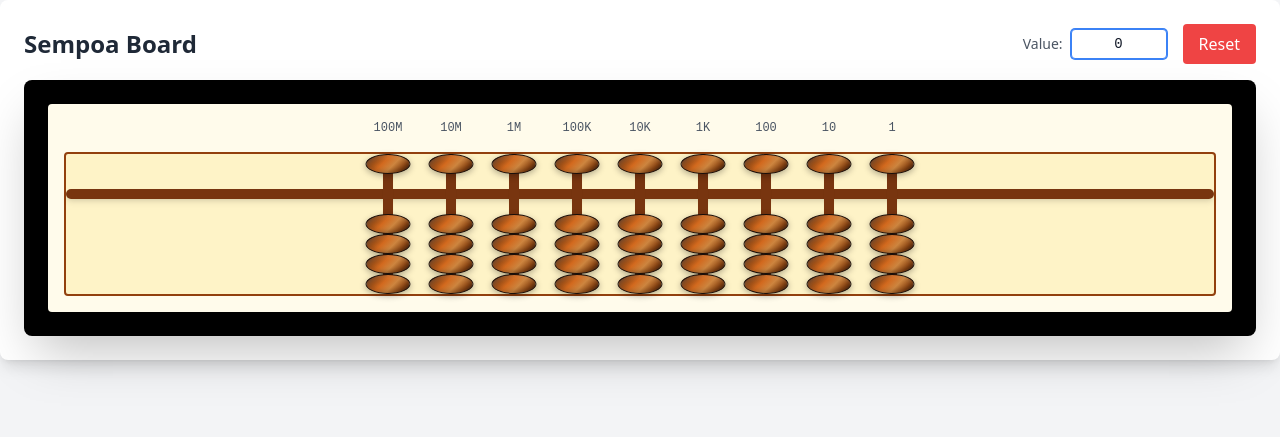
Test: SempoaBoard Keyboard Input › Input Validation › should show error for numbers too large for sempoa
The image size is (1280, 437).
Step 1. Clear the field with test id "keyboard-input-field" → [1118, 44], box x1=1070 y1=29 x2=1166 y2=59
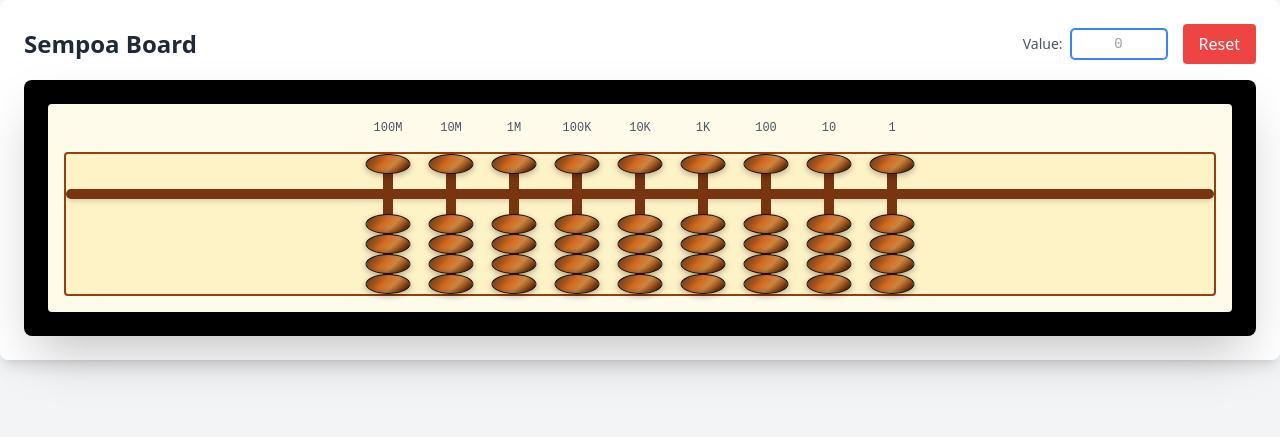
Note: Enter a very large number that exceeds sempoa capacity
Step 2. Type keys "999999999999999"
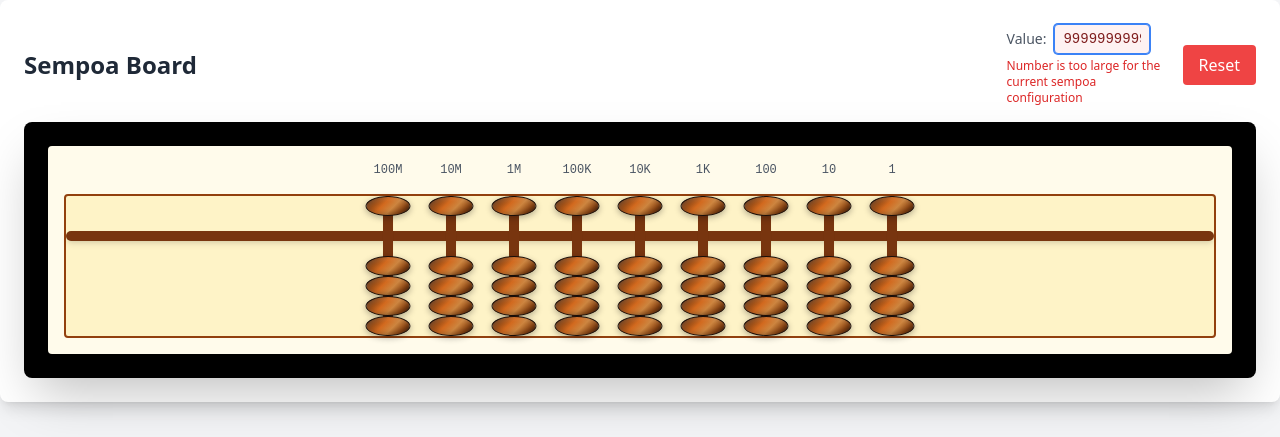
Now the text with test id "keyboard-input-error" reads "Number is too large for the current sempoa configuration", box x1=1006 y1=57 x2=1160 y2=106
